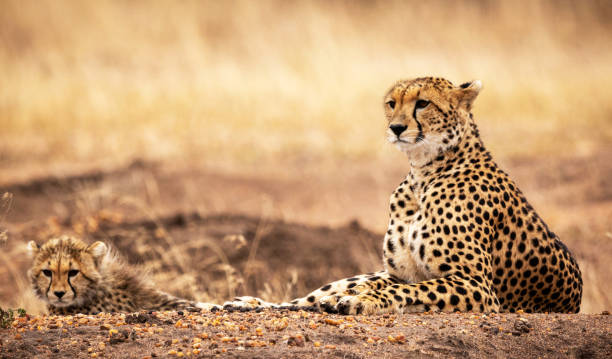cheetah: (376, 68, 495, 166)
